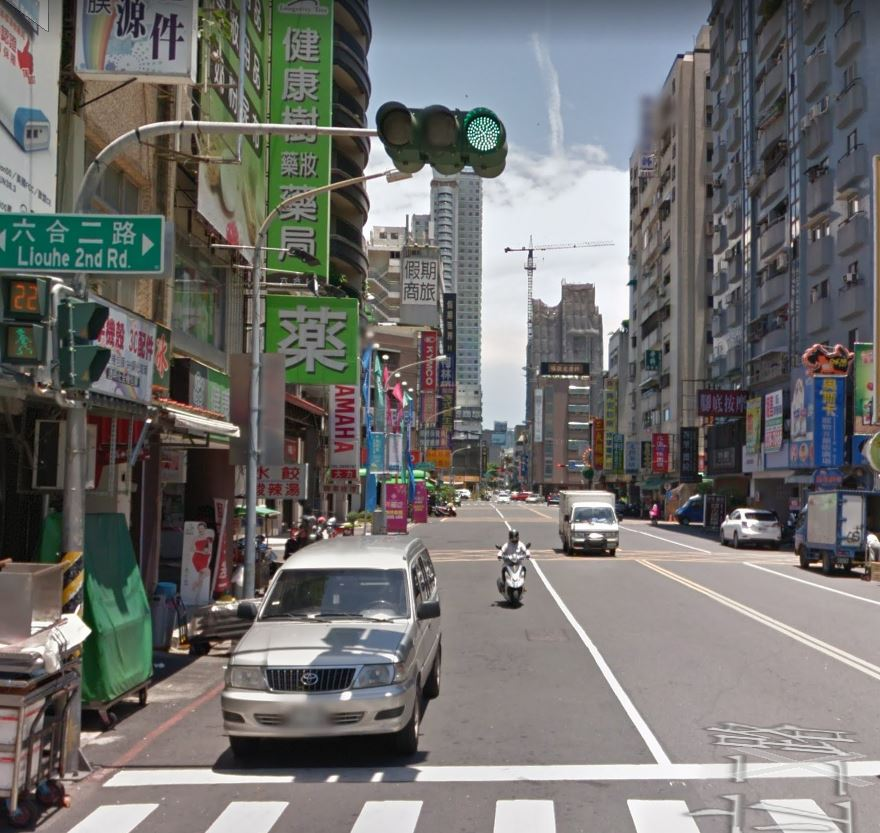Traffic_light_green: (374, 102, 511, 184)
car: (219, 532, 454, 762)
motorcycle: (491, 541, 536, 605)
